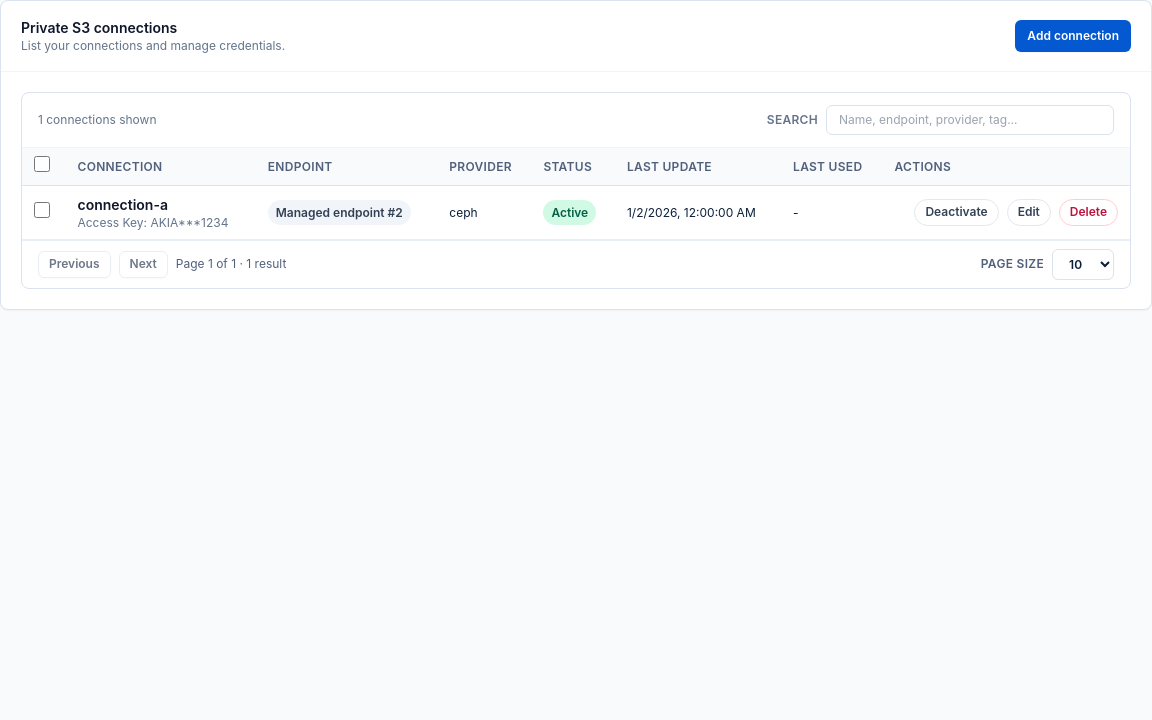
Test: ProfilePage live validation › confirms a single private connection deletion with its context
The width and height of the screenshot is (1152, 720).
Expected: the text "connection-a" is shown, x1=78 y1=196 x2=168 y2=213
Click the button "Delete". click: (1088, 212)
box: x1=1059 y1=199 x2=1118 y2=226
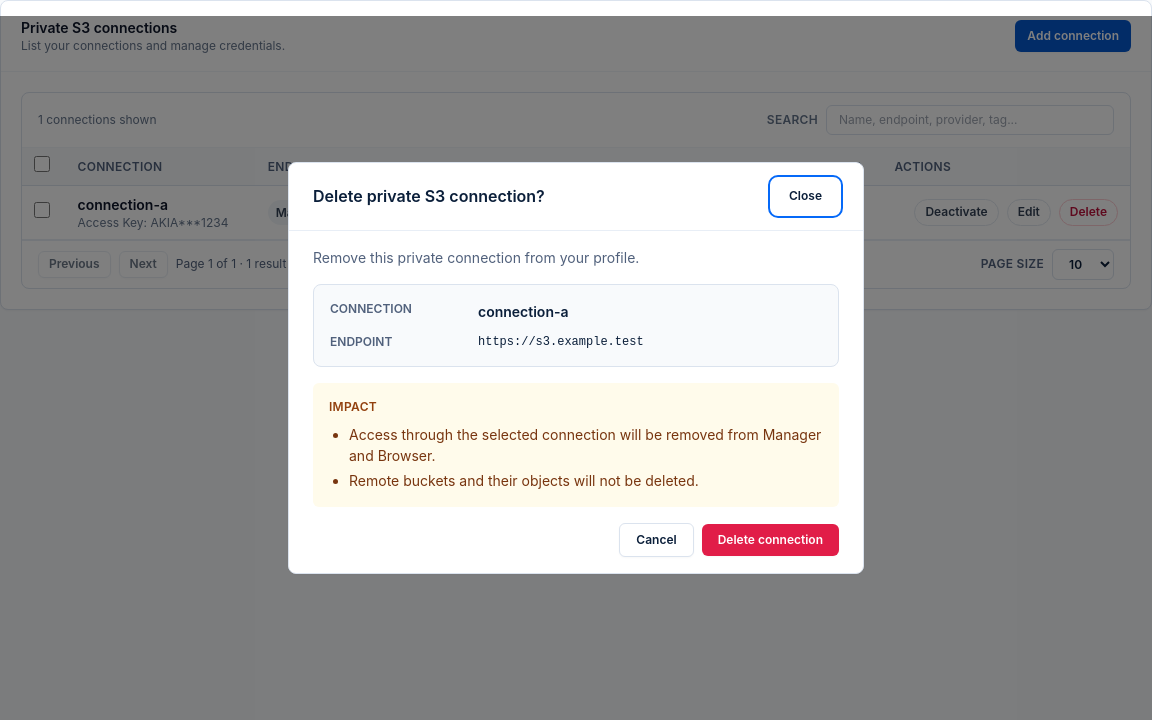
Expected: the heading "Delete private S3 connection?" is shown, x1=313 y1=185 x2=545 y2=207
Expected: the text "https://s3.example.test" is shown, x1=478 y1=334 x2=644 y2=348
Click the button "Cancel". click: (657, 540)
box: x1=619 y1=522 x2=694 y2=557
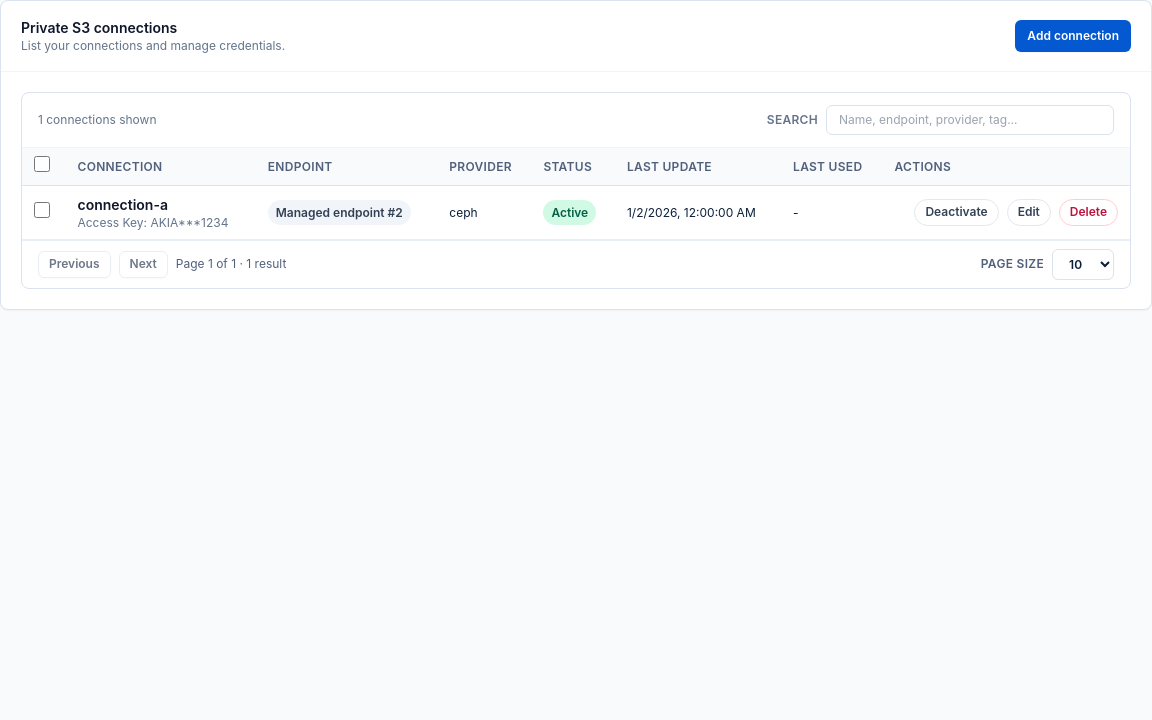
Expected: the heading "Delete private S3 connection?" is gone
